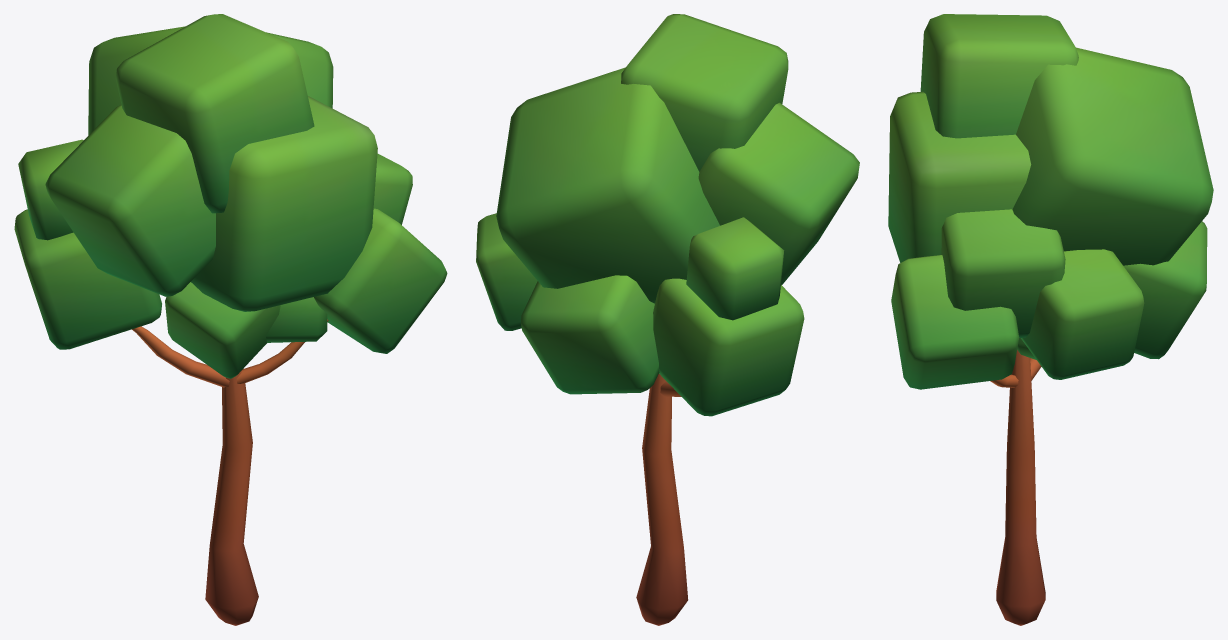
File: forest_tree_2.glb
3 views of the same model, side by side, from view 1: azimuth 30°, elevation 25°; view 2: azimuth 150°, elevation 25°; view 3: azimuth 270°, elevation 25° (orthographic). The views are drawn at different scales.
Parts seen in each view (by area): view 1: Tree_2_D_Color1; view 2: Tree_2_D_Color1; view 3: Tree_2_D_Color1.
Part boxes in pixels (bbox=[...]): Tree_2_D_Color1: bbox=[14, 14, 447, 625]; Tree_2_D_Color1: bbox=[476, 14, 859, 625]; Tree_2_D_Color1: bbox=[888, 14, 1213, 625].
Bounding box in the file's own units: 4.74 × 8.09 × 4.03.
1 material, 1 textured.
